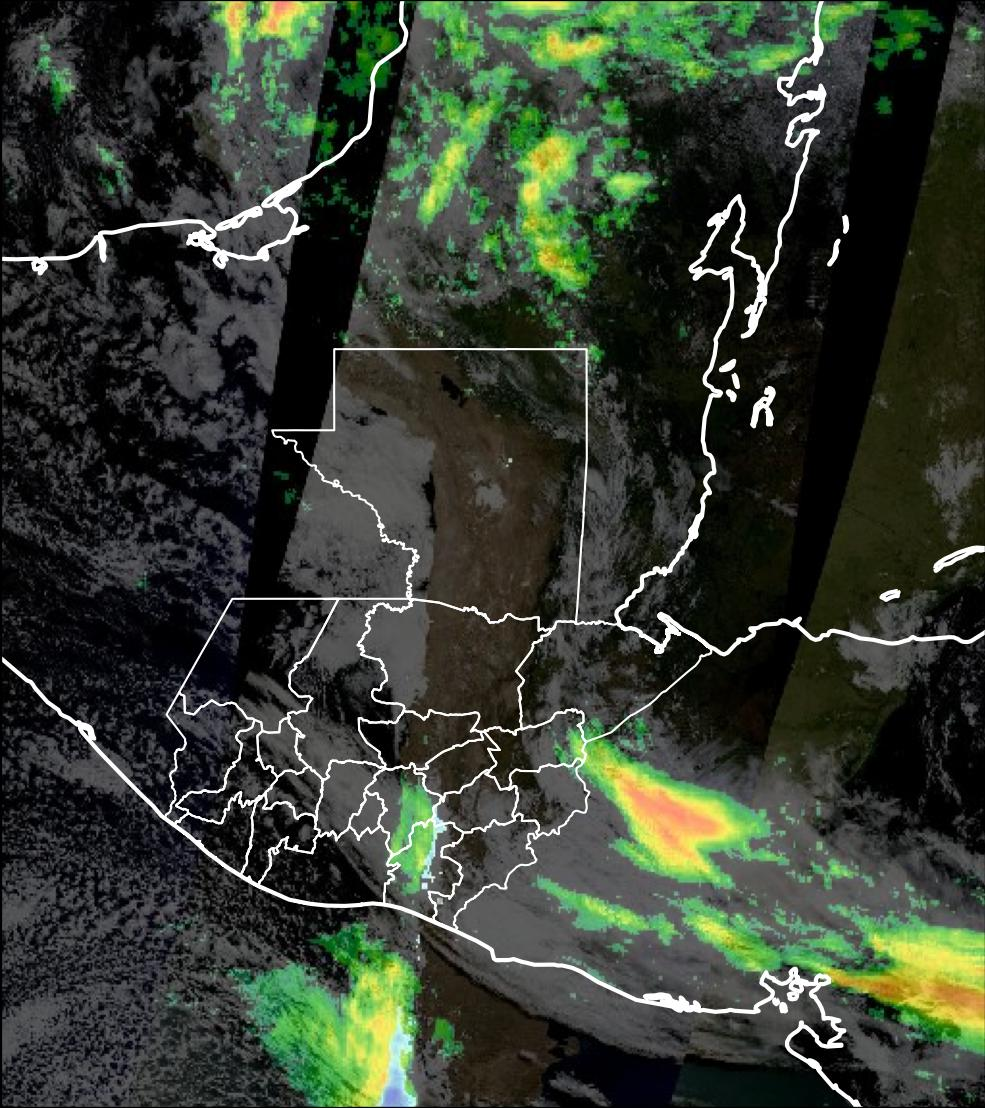precipitacion: (607, 762, 742, 891)
